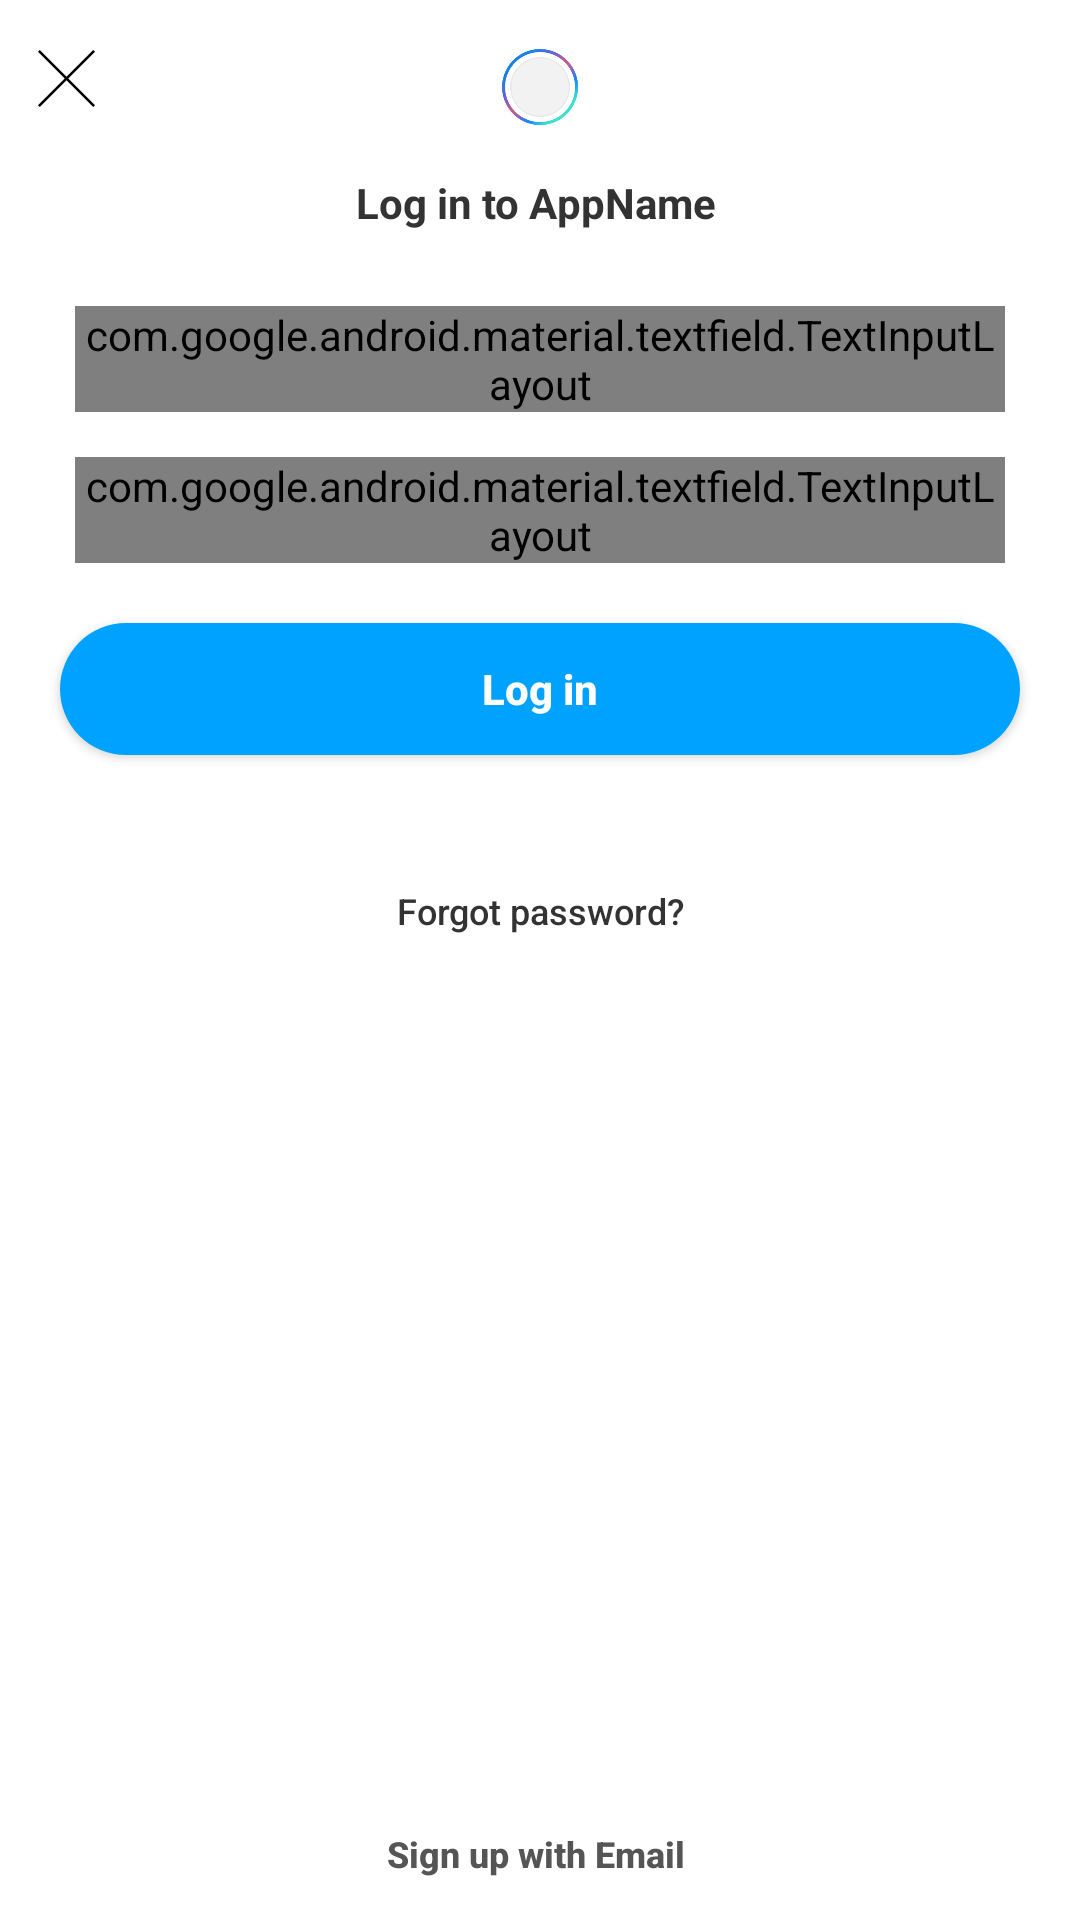

Icon click points for this 1080*1920 phone screenshot, format point (x, y):
dismiss butt: point (66, 78)
